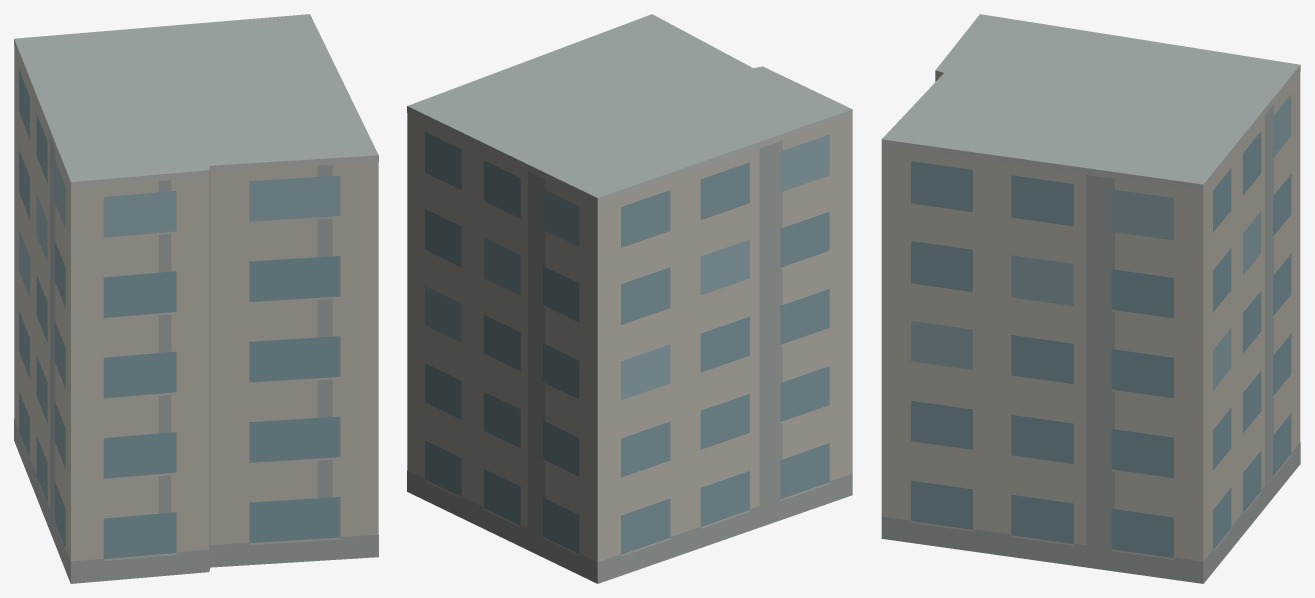
Rendered from survey-upis-32705549.glb.
3 renders of one model, left to right at view 1: azimuth 30°, elevation 25°; view 2: azimuth 150°, elevation 25°; view 3: azimuth 270°, elevation 25°, orthographic. The views are drawn at different scales.
Parts seen in each view (by area): view 1: survey-upis-32705549.tmp; view 2: survey-upis-32705549.tmp; view 3: survey-upis-32705549.tmp.
Boxes of the visible parts, x1=… form: survey-upis-32705549.tmp: x1=14, y1=14, x2=378, y2=583; survey-upis-32705549.tmp: x1=407, y1=14, x2=852, y2=583; survey-upis-32705549.tmp: x1=881, y1=14, x2=1300, y2=583.
Bounding box in the file's own units: 13.1 × 14.3 × 13.6.
